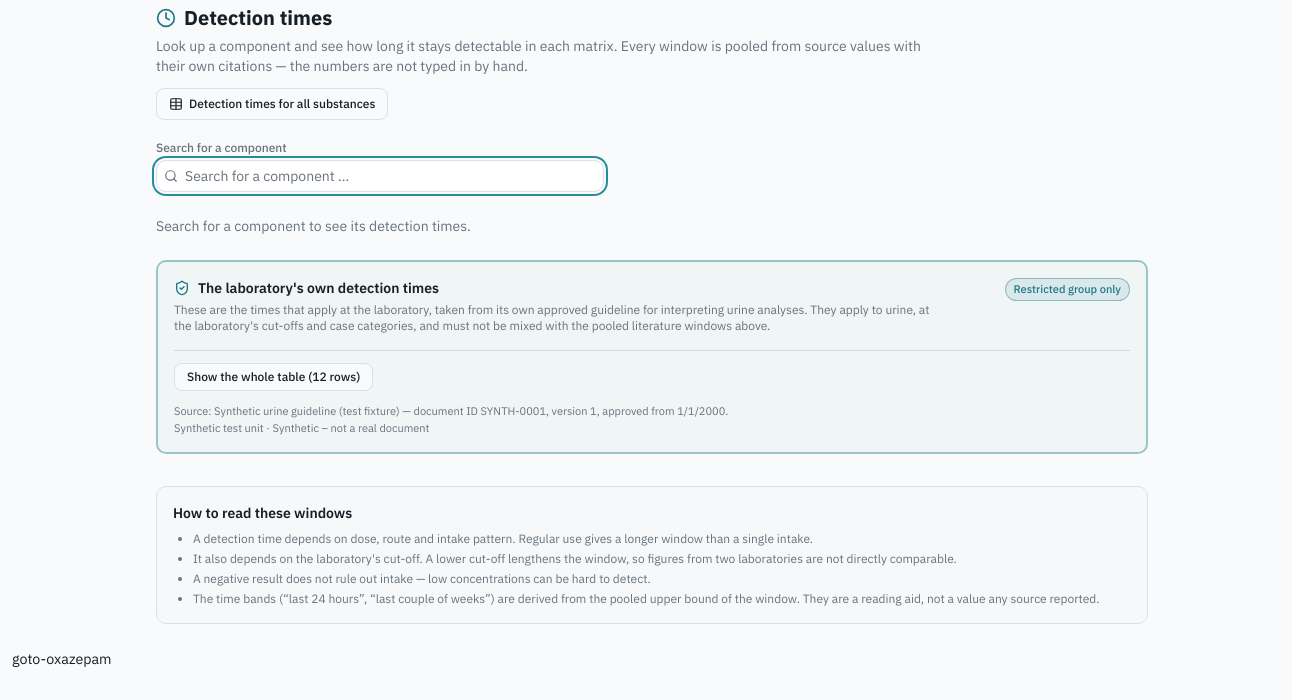
Scenario: DetectionTimesPage › laboratory guideline section › opens the whole guideline table on request
Click the button "Show the whole table (12 rows)" at (274, 377), box [174,363,373,391]
(page scrolled)
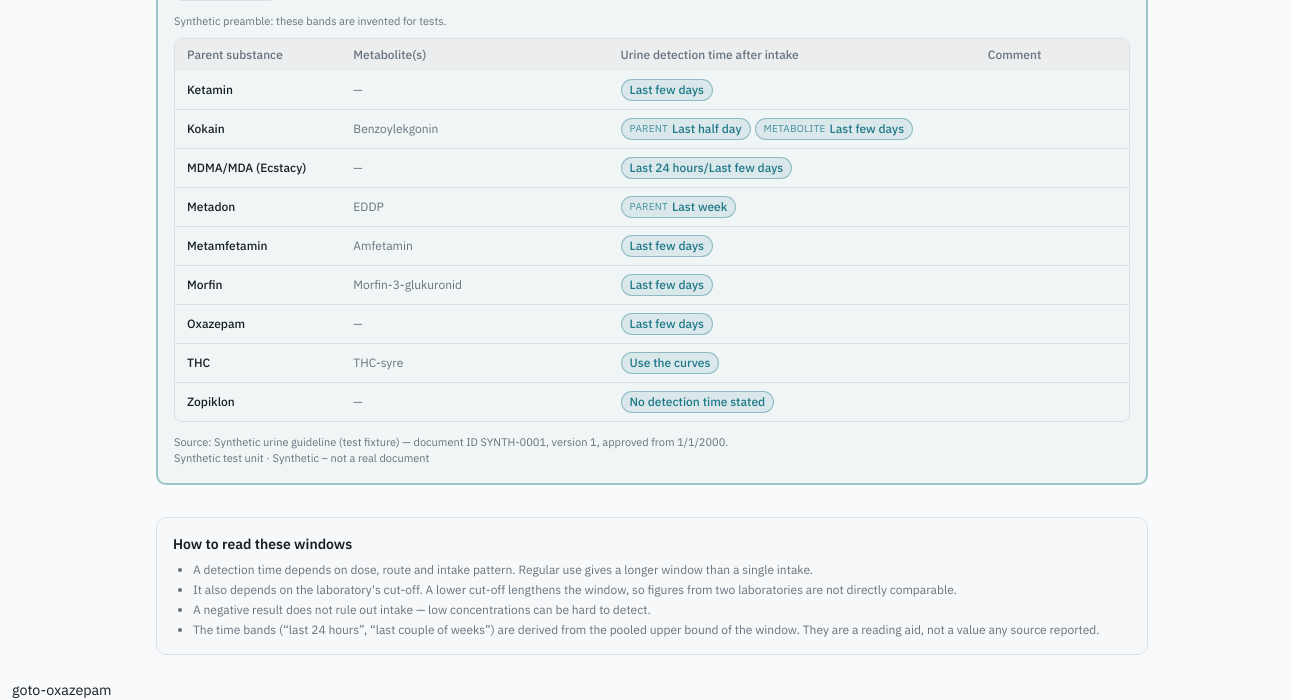
Expected: the row with test id "lab-table-row-thc" is shown, [175,343,1129,382]
Expected: the text "Use the curves" is shown, [620,352,719,374]
